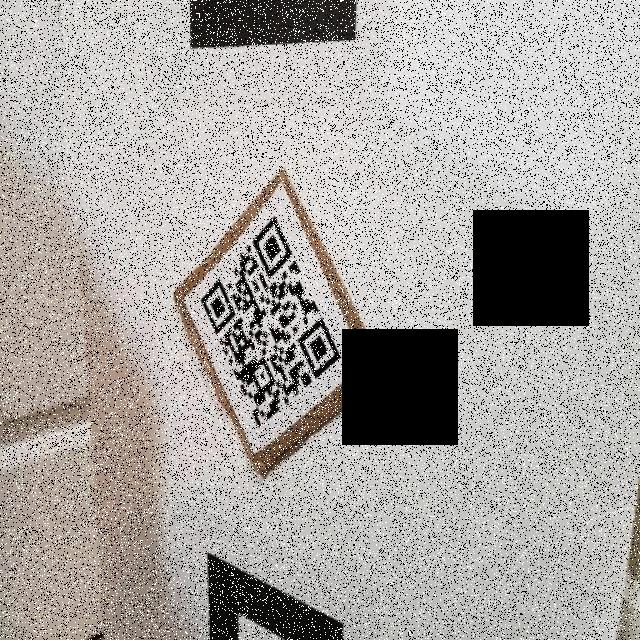QR_CODE: (192, 206, 352, 442)
